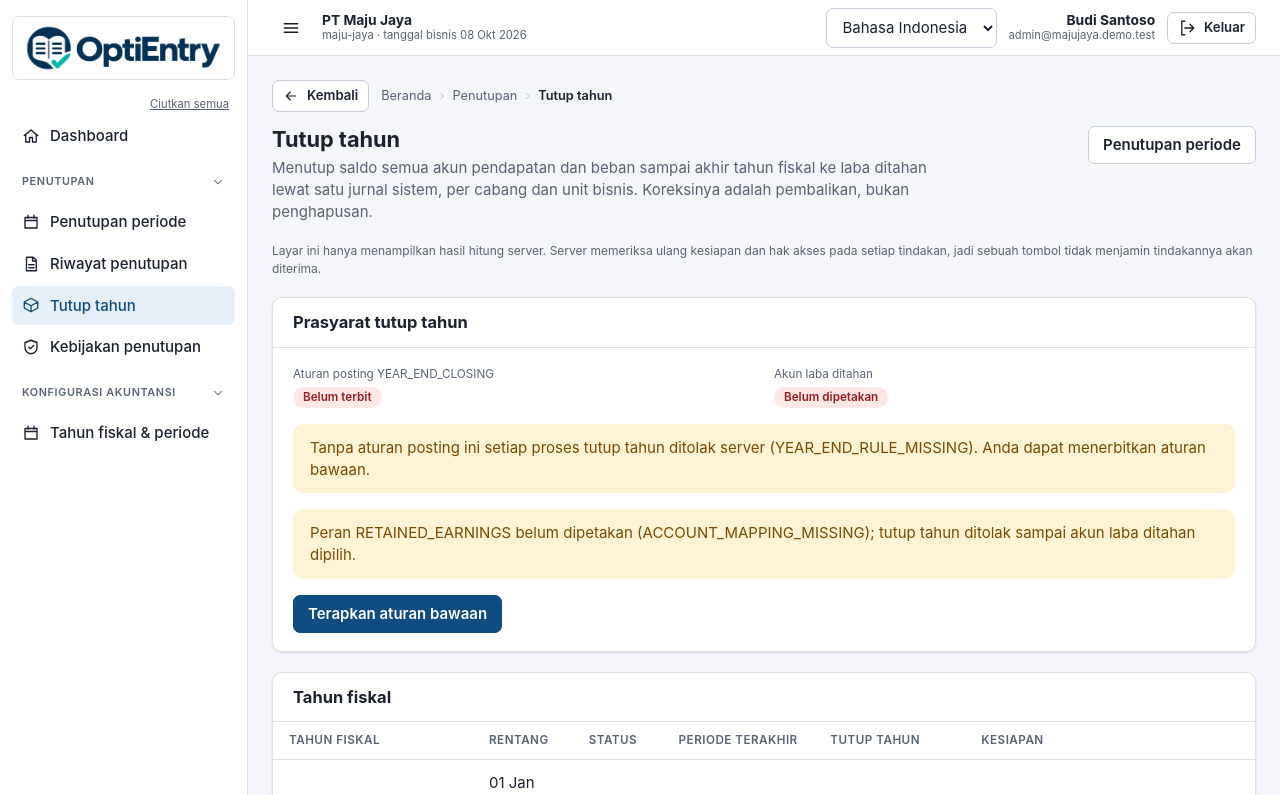
Test case: year end list › sends the date the user typed and shows a refusal
Click the button "Terapkan aturan bawaan" at (398, 614), box [293, 595, 502, 633]
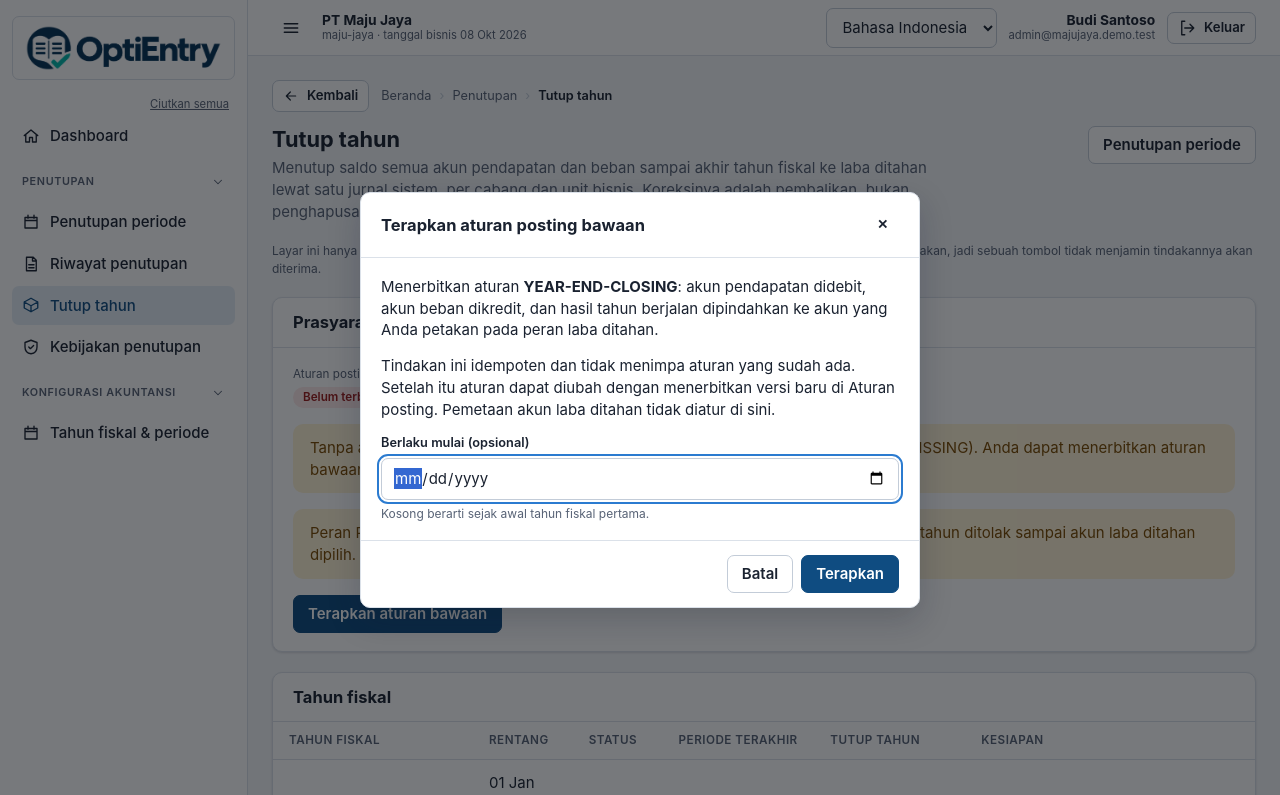
Type "2026-01-01" into the date field labelled "Berlaku mulai (opsional)" at (640, 479), box [381, 458, 899, 500]
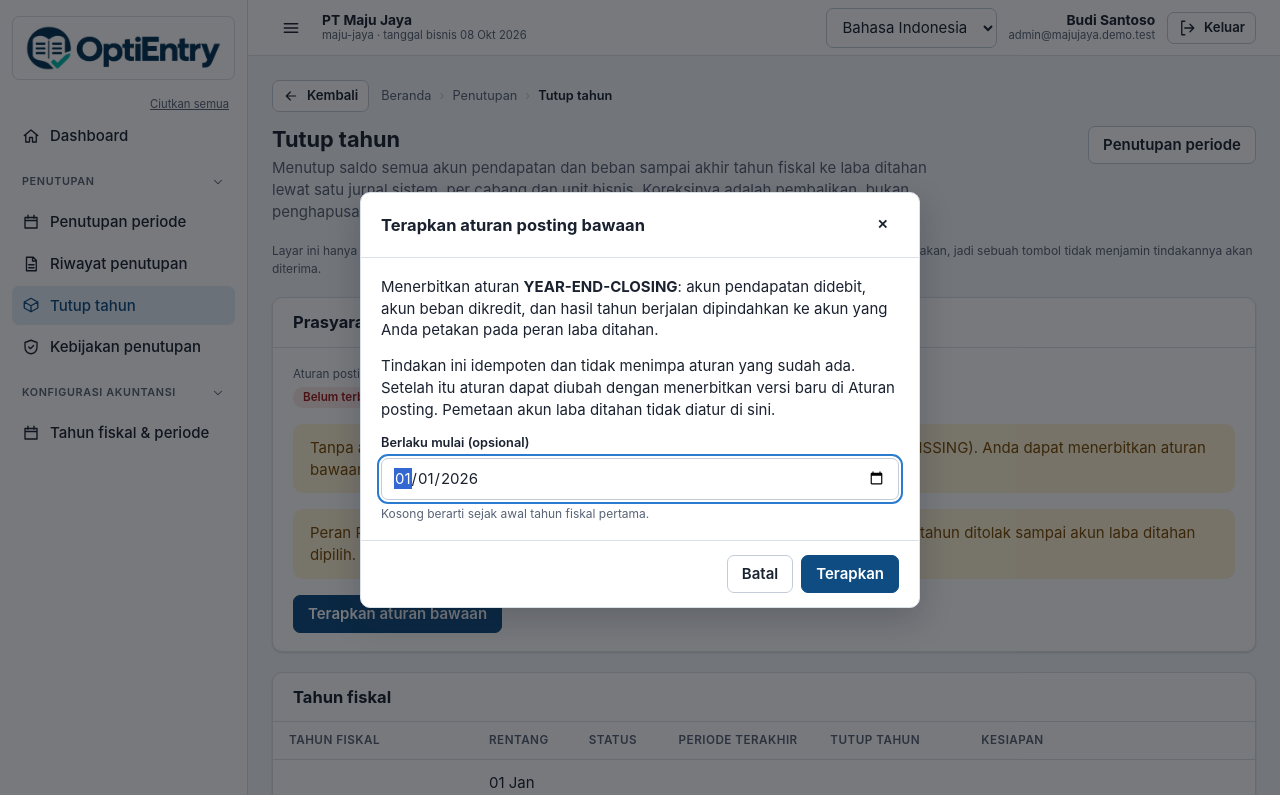
Click the button "Terapkan" at (850, 574), box [801, 555, 899, 593]
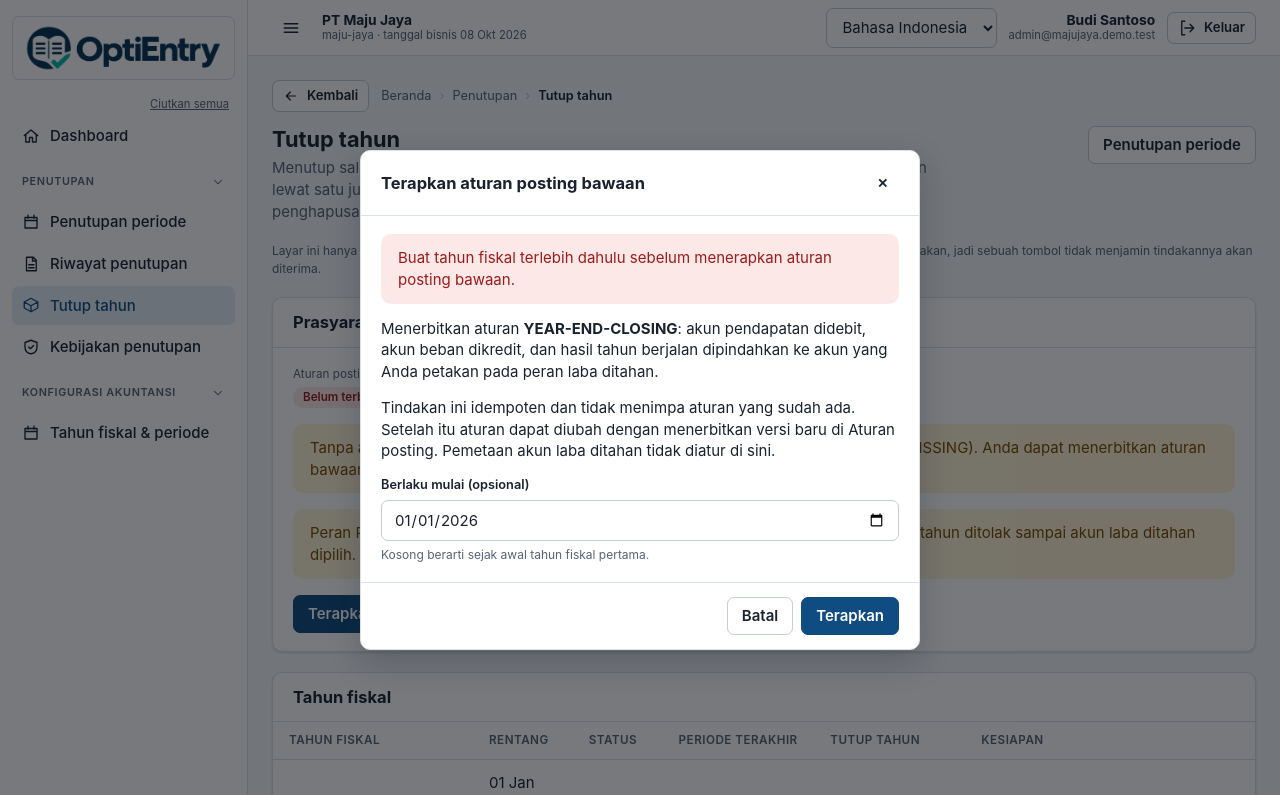
Now the text "Buat tahun fiskal terlebih dahulu" is shown, box [398, 248, 832, 289]
